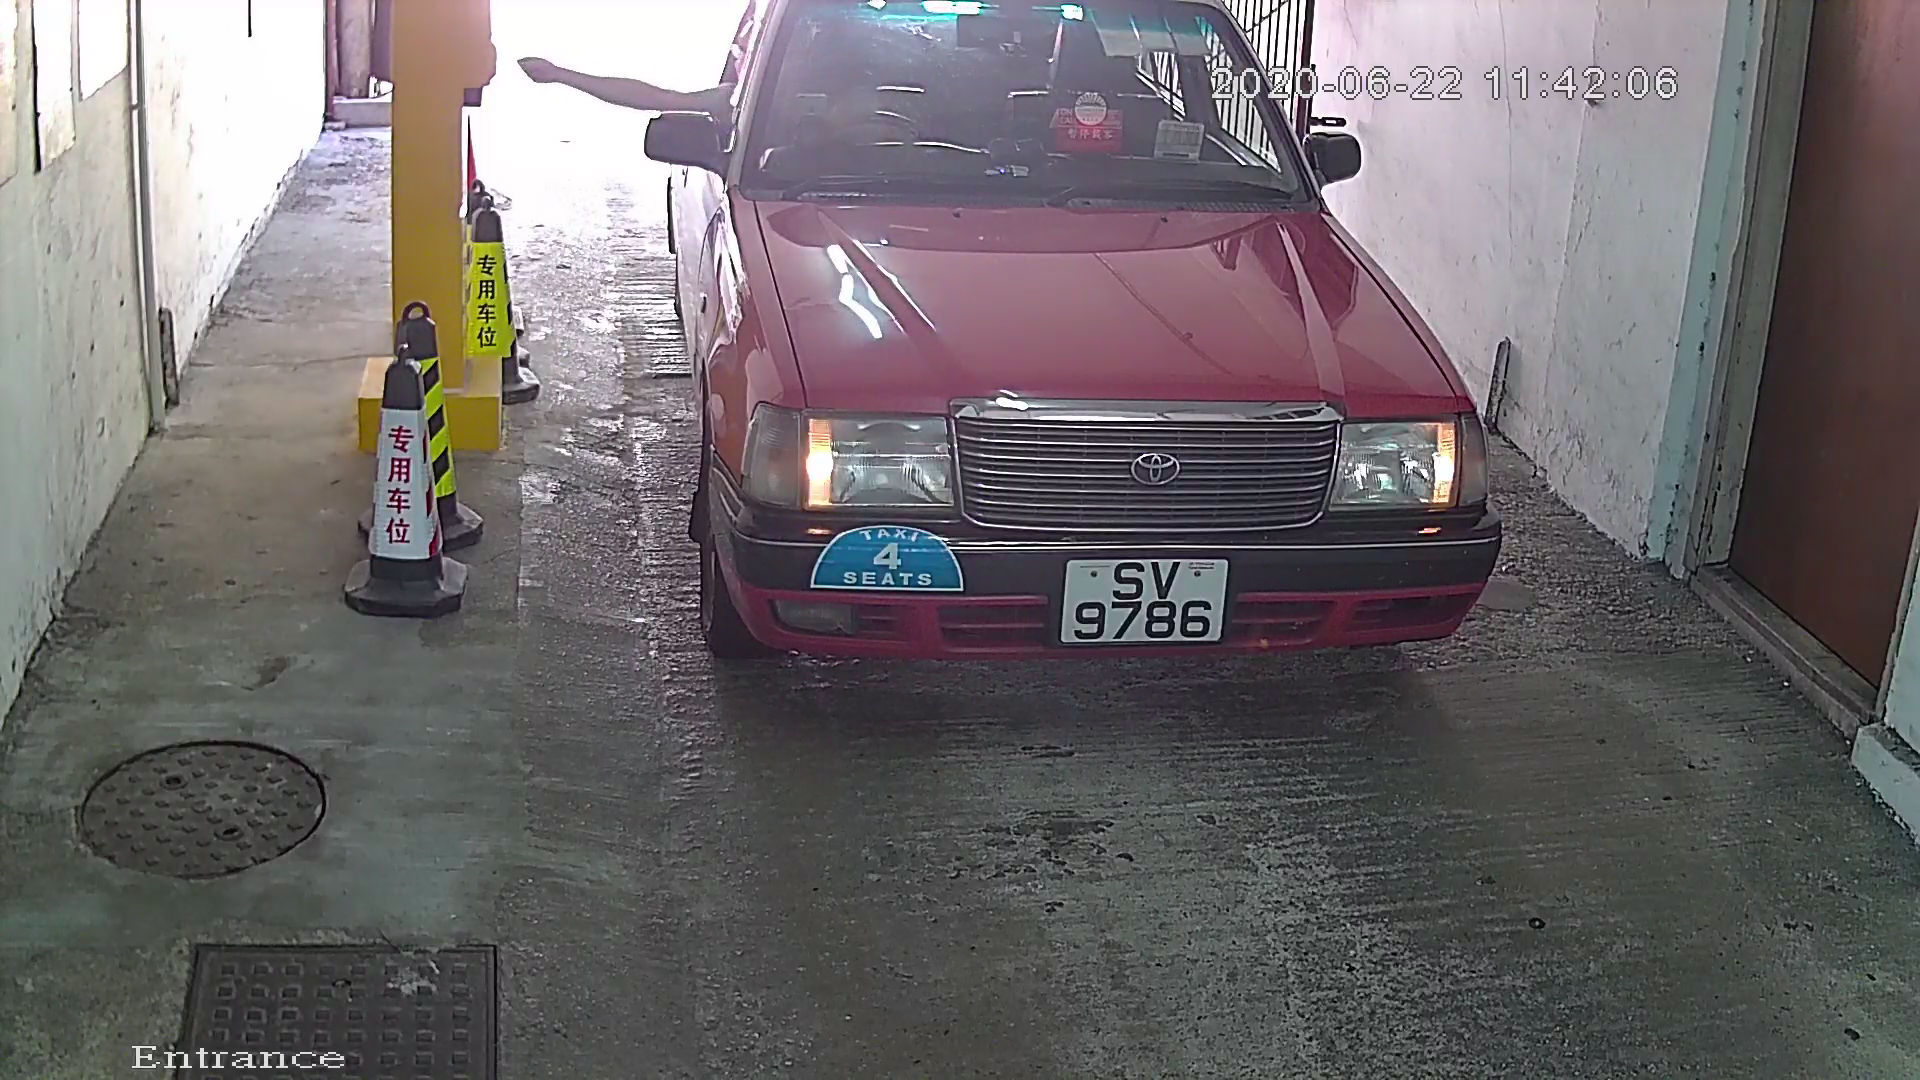taxi: (611, 3, 1549, 779)
taxi_mark: (799, 500, 978, 621)
